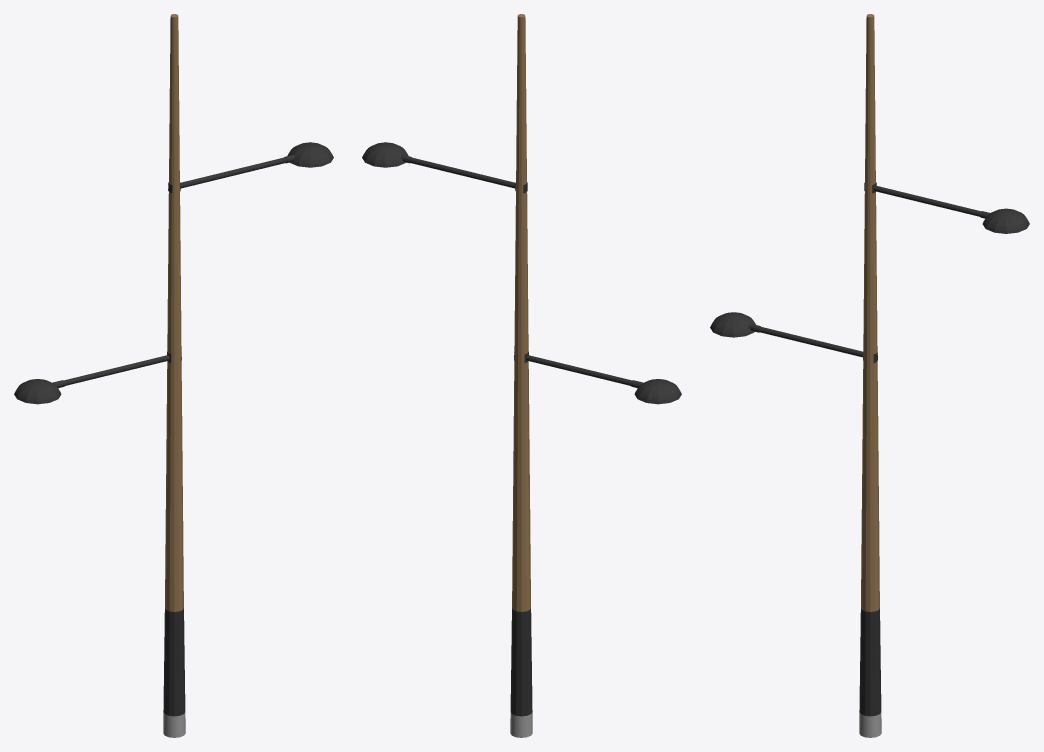
The model's file is street light with two lights on each side 1.fbx.
3 views of the same model, side by side, from view 1: azimuth 30°, elevation 25°; view 2: azimuth 150°, elevation 25°; view 3: azimuth 330°, elevation 25° (orthographic).
Parts seen in each view (by area): view 1: street l. body.001; view 2: street l. body.001; view 3: street l. body.001.
Part boxes in pixels (box(x1,y1,x2,y2)): street l. body.001: box(14, 14, 333, 737); street l. body.001: box(362, 14, 681, 737); street l. body.001: box(710, 14, 1029, 737).
Bounding box in the file's own units: 2592 × 5667 × 340.
